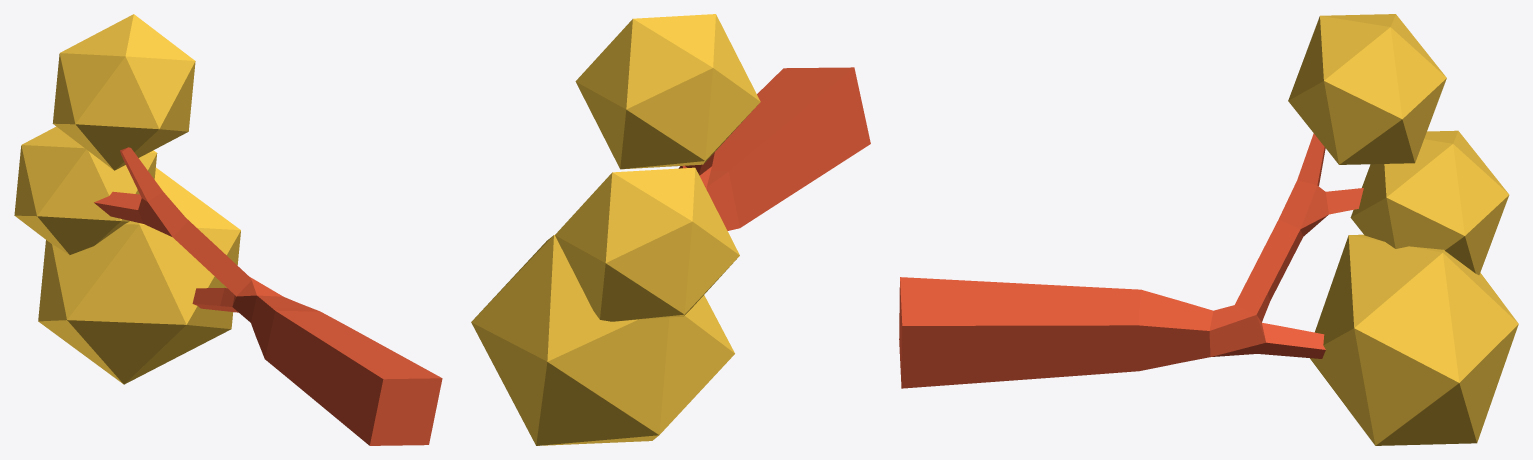
File: arvorEeeeeeee1.fbx
The picture shows the model from 3 angles, left to right: view 1: azimuth 30°, elevation 25°; view 2: azimuth 150°, elevation 25°; view 3: azimuth 270°, elevation 25°; orthographic projection. The views are drawn at different scales.
Parts seen in each view (by area): view 1: Cube; view 2: Cube; view 3: Cube.
Part boxes in pixels (bbox=[...]): Cube: bbox=[14, 14, 442, 445]; Cube: bbox=[471, 14, 870, 445]; Cube: bbox=[899, 14, 1518, 445].
Size of the model in its own units: 115 by 197 by 273.
